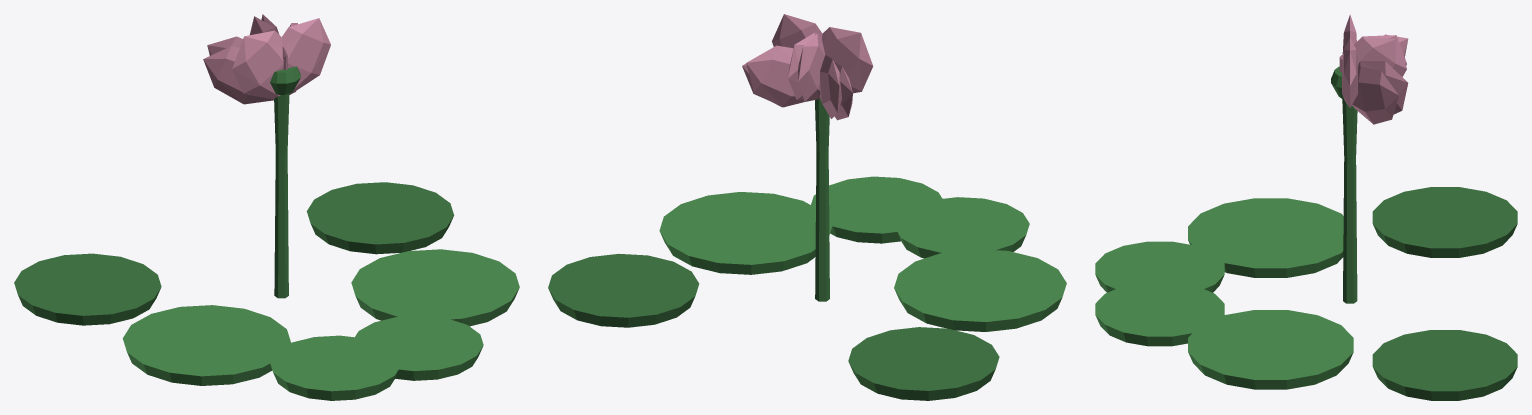
The model's file is lotus.gltf.
3 renders of one model, left to right at view 1: azimuth 30°, elevation 25°; view 2: azimuth 150°, elevation 25°; view 3: azimuth 270°, elevation 25°, orthographic. The views are drawn at different scales.
Parts seen in each view (by area): view 1: lotus; view 2: lotus; view 3: lotus.
Boxes of the visible parts, x1=… form: lotus: x1=14, y1=14, x2=519, y2=400; lotus: x1=548, y1=14, x2=1066, y2=400; lotus: x1=1095, y1=14, x2=1517, y2=400.
Bounding box in the file's own units: 1.28 × 0.786 × 1.12.
